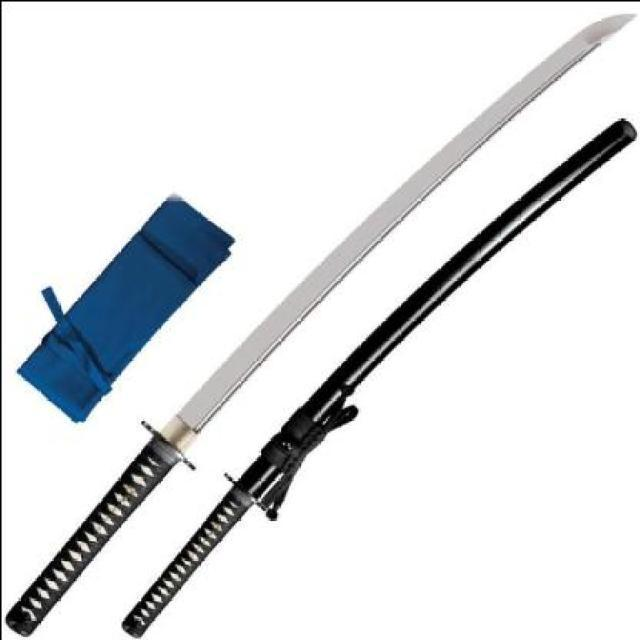weapon: (150, 11, 636, 428), (233, 118, 634, 481)
